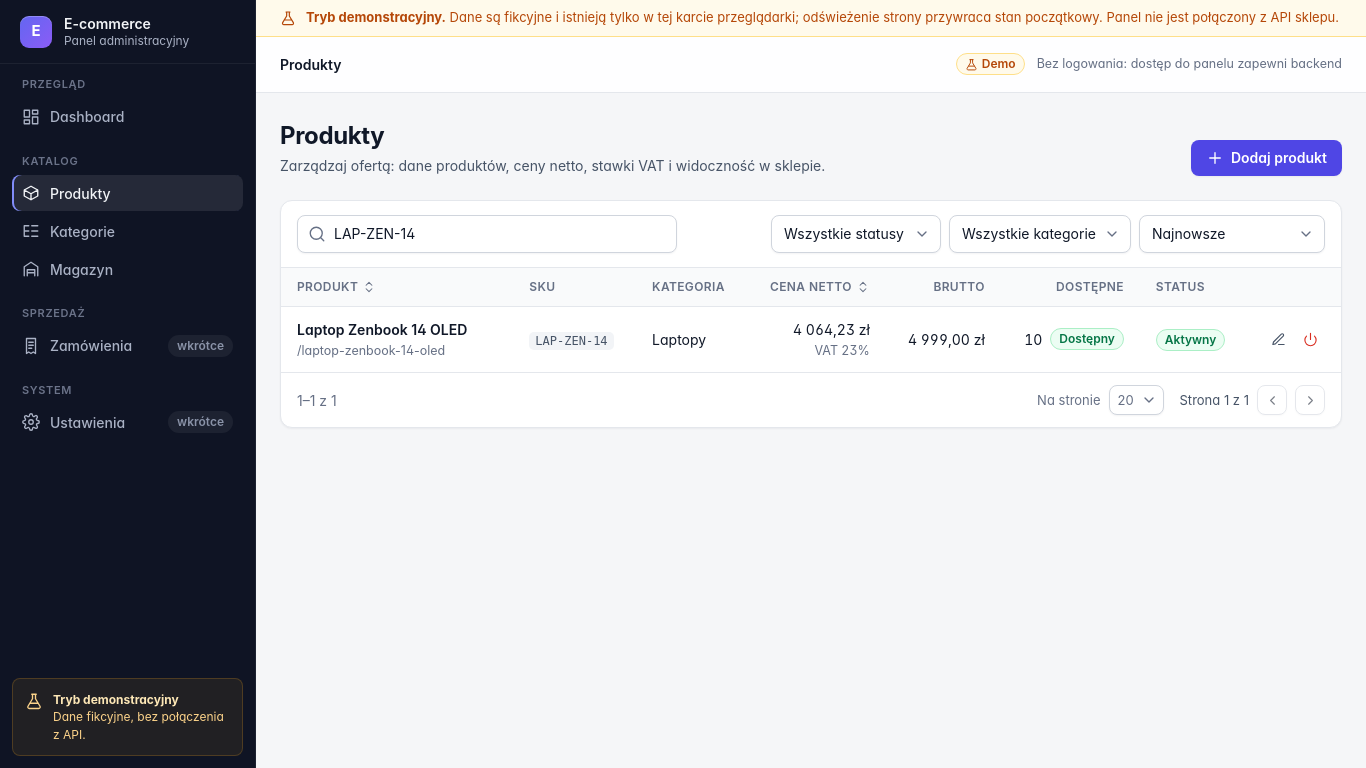
ProductsPage › deactivates a product only after confirmation
Click the button named "Dezaktywuj Laptop Zenbook 14 OLED": (1310, 339) [1295, 324, 1325, 354]
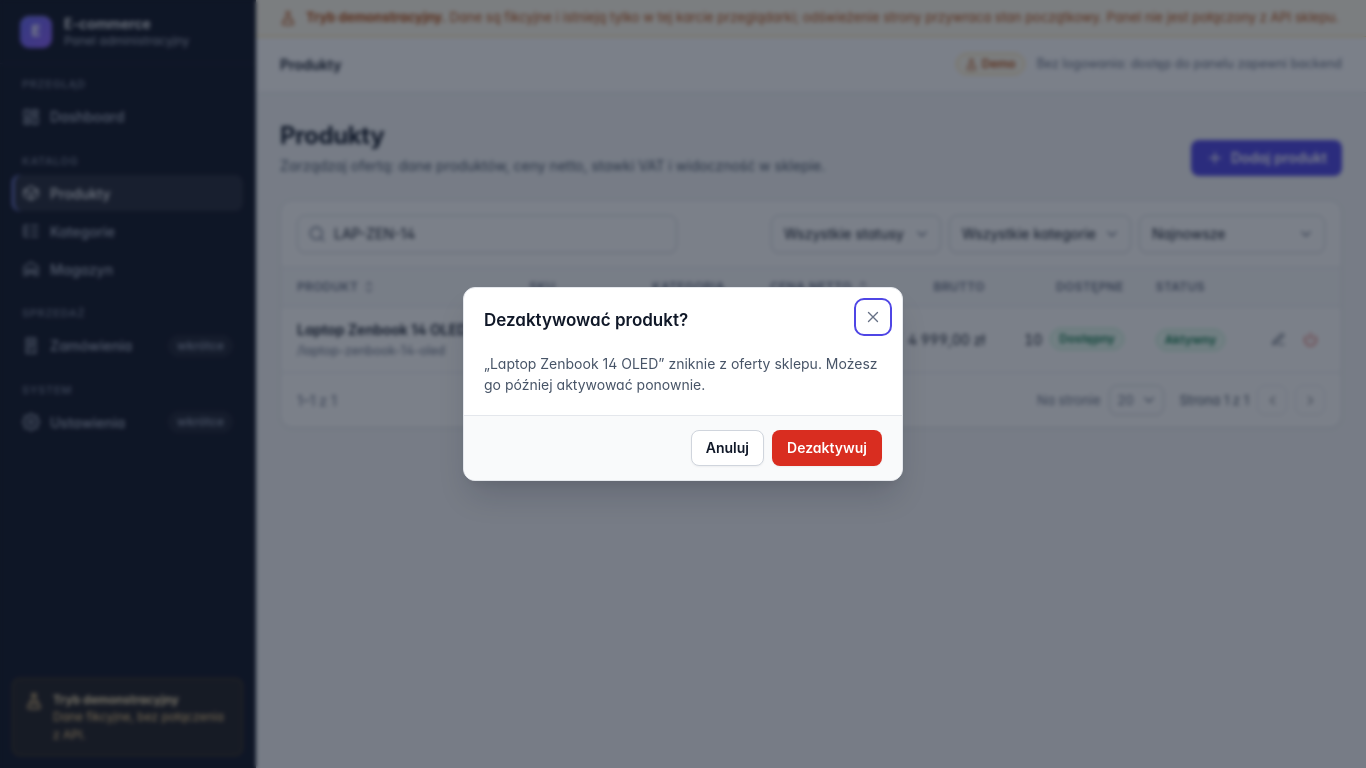
Expected: the text "Aktywny" is shown, [1156, 329, 1225, 351]
Click the button "Dezaktywuj": (827, 448) [772, 430, 882, 466]
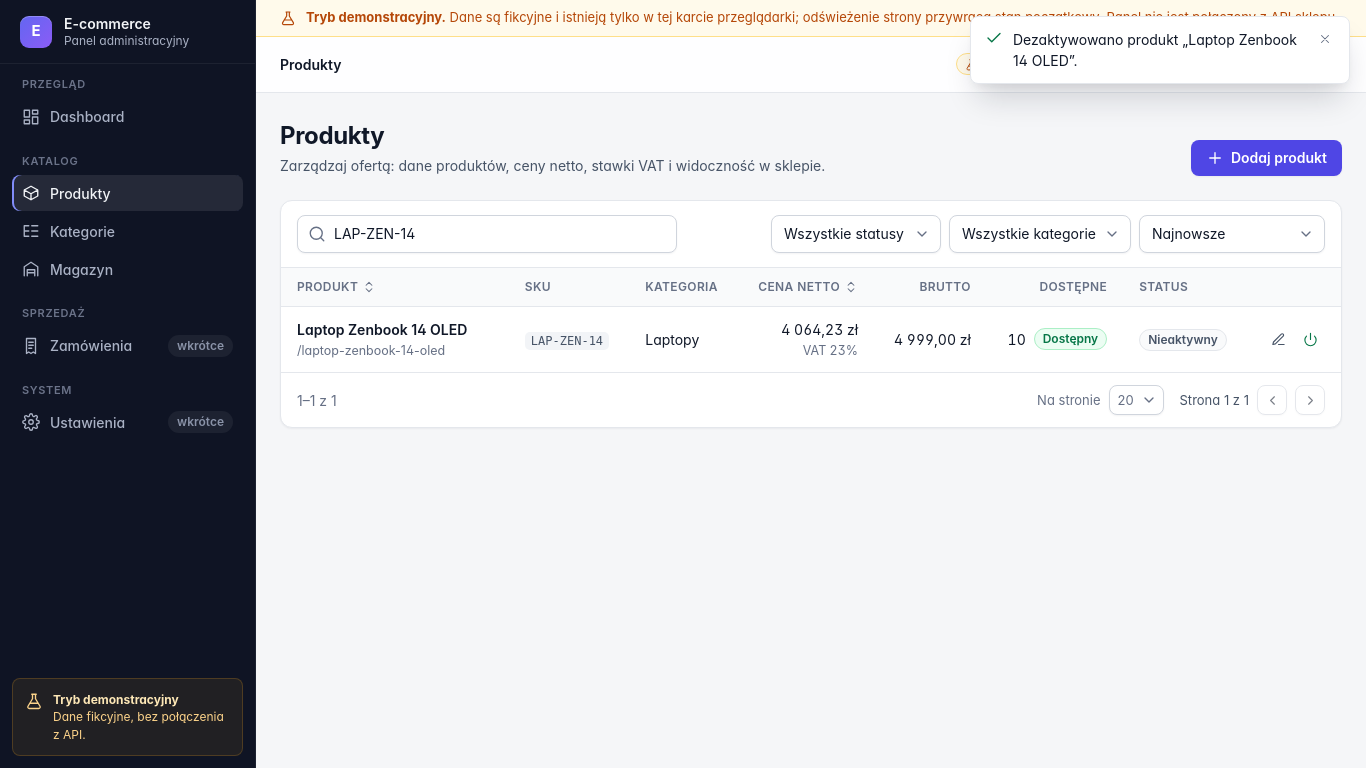
Expected: the text "Nieaktywny" is shown, [1139, 329, 1227, 351]
Expected: the text "Dezaktywowano produkt „Laptop Zenbook 14 OLED”." is shown, [1013, 29, 1305, 71]
